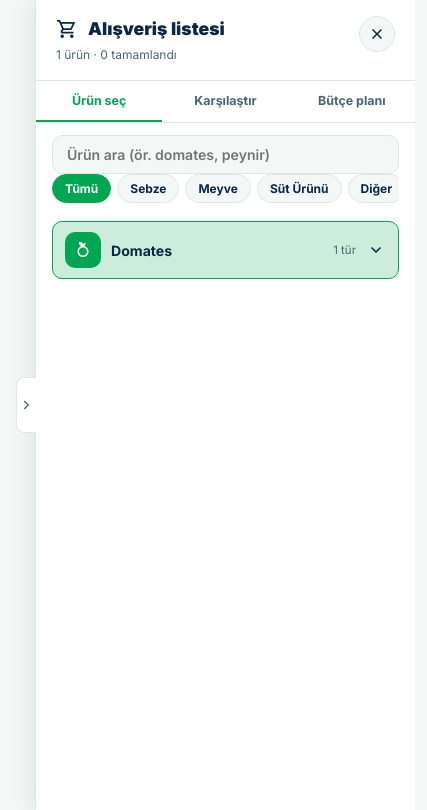
Test: PazarListesi › karşılaştır adımında görsel indir ve ai öneri butonları görünür
Click the button "Karşılaştır" at (225, 102), box [162,81,289,122]
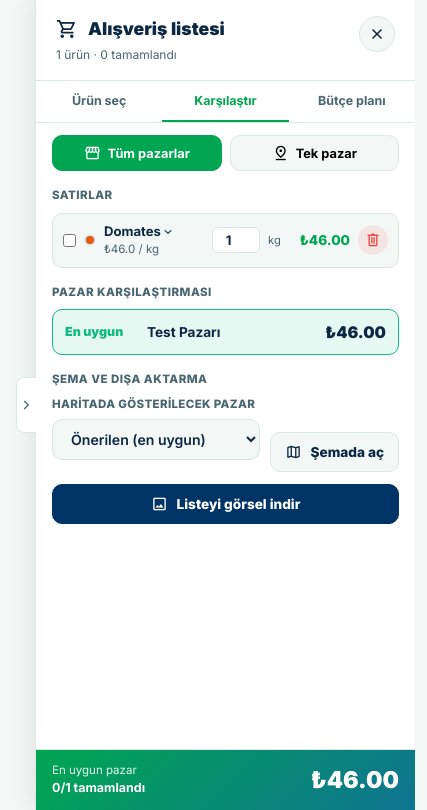
Now the button "Listeyi görsel indir" is shown, box [52,484,399,524]
Click the button "Bütçe planı" at (352, 102), box [289,81,415,122]
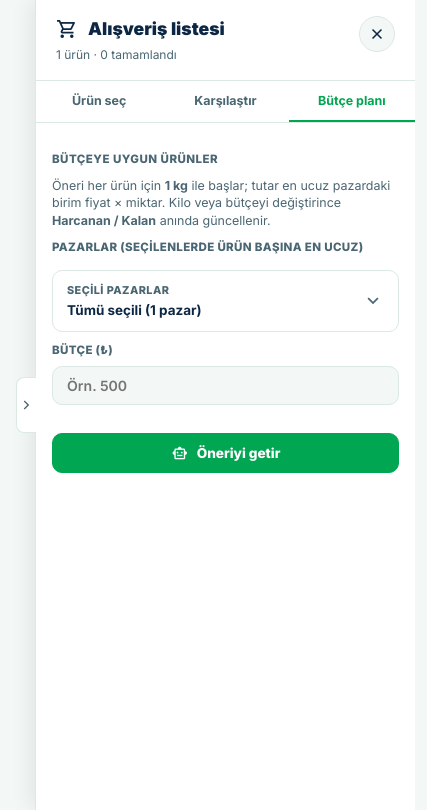
Now the button "Öneriyi getir" is shown, box [52,433,399,473]
